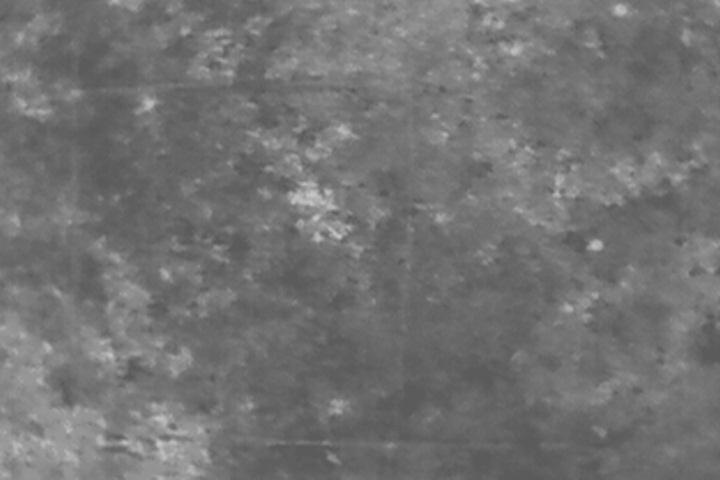landmine: (291, 172, 336, 213)
